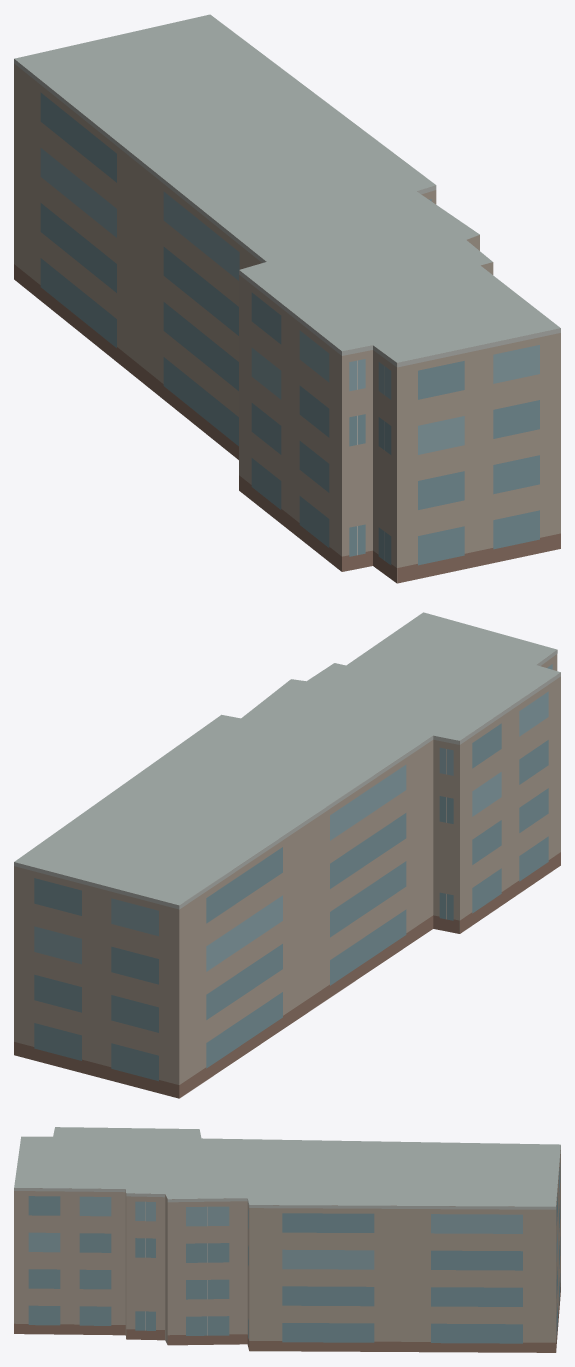
The model's file is survey-upis-32770320.glb.
3 views of the same model, one above another, from view 1: azimuth 30°, elevation 25°; view 2: azimuth 150°, elevation 25°; view 3: azimuth 270°, elevation 25° (orthographic). The views are drawn at different scales.
Visible parts, largest first — view 1: survey-upis-32770320.tmp; view 2: survey-upis-32770320.tmp; view 3: survey-upis-32770320.tmp.
Boxes of the visible parts, x1,y1,x2,y2 form: survey-upis-32770320.tmp: (14, 14, 560, 583); survey-upis-32770320.tmp: (14, 612, 560, 1098); survey-upis-32770320.tmp: (14, 1127, 560, 1352).
Bounding box in the file's own units: 13.45 × 11.5 × 39.
